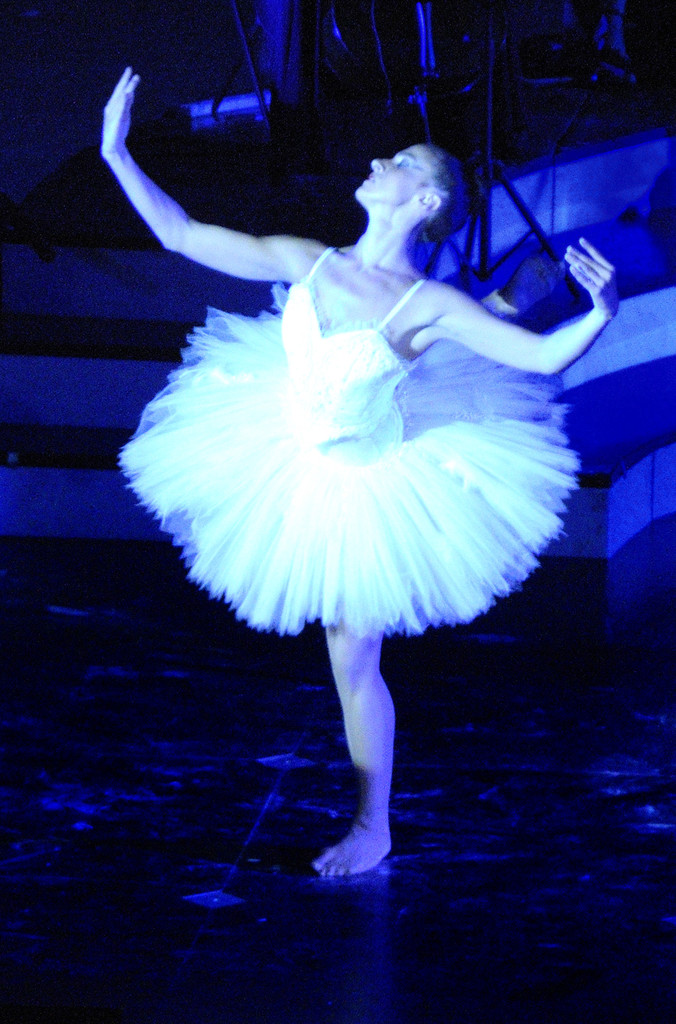Person: (101, 64, 619, 876)
